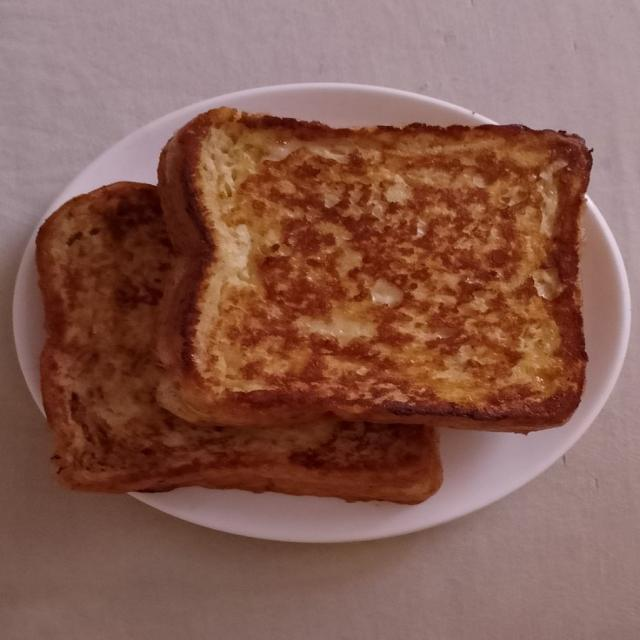toast bread: (159, 108, 591, 432), (37, 183, 441, 502)
